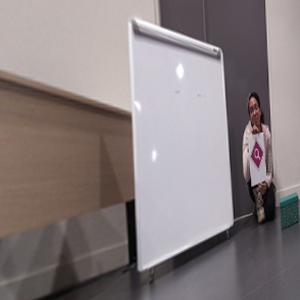search: (250, 138, 264, 168)
